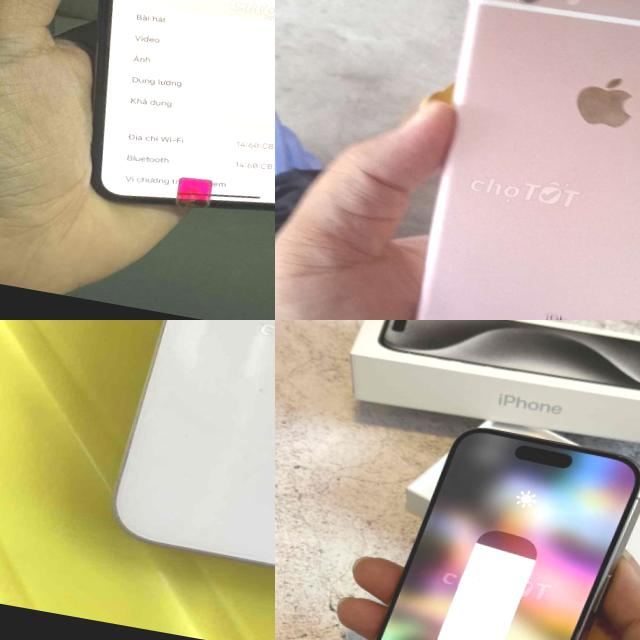gen_12_13: (94, 320, 275, 603)
gen_15: (325, 404, 640, 640)
gen_6: (414, 0, 640, 320)
gen_x_xs: (30, 0, 275, 249)
